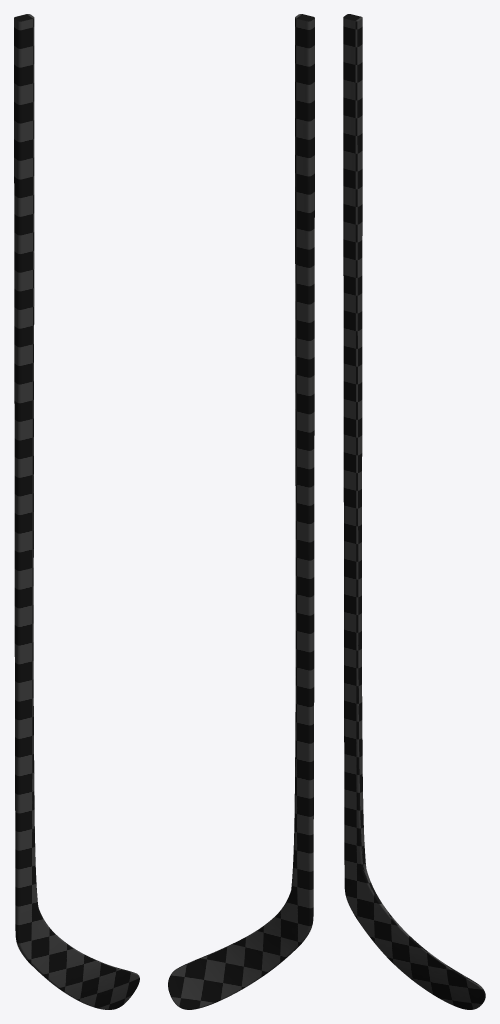
3 renders of one model, left to right at view 1: azimuth 30°, elevation 25°; view 2: azimuth 150°, elevation 25°; view 3: azimuth 330°, elevation 25°, orthographic. The views are drawn at different scales.
Parts seen in each view (by area): view 1: geometry_0; view 2: geometry_0; view 3: geometry_0.
Boxes of the visible parts, x1,y1,x2,y2 form: geometry_0: [14, 14, 139, 1009]; geometry_0: [168, 14, 314, 1009]; geometry_0: [343, 14, 485, 1009].
Bounding box in the file's own units: 227 × 1650 × 53.59.
Materials: 1 (1 with a texture image).
